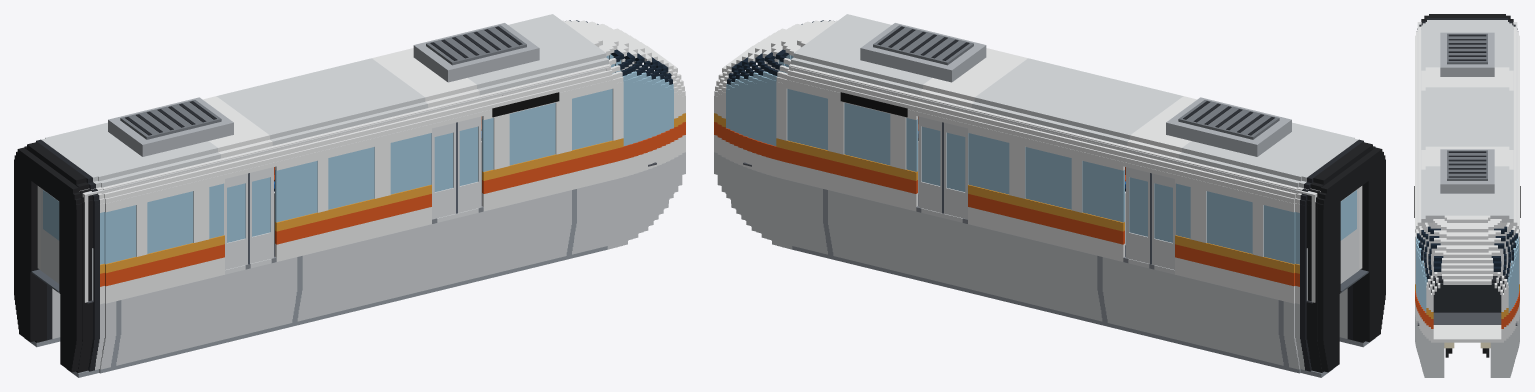
The model's file is yui_rail_front.obj.
3 views of the same model, side by side, from view 1: azimuth 30°, elevation 25°; view 2: azimuth 150°, elevation 25°; view 3: azimuth 270°, elevation 25° (orthographic). The views are drawn at different scales.
Visible parts, largest first — view 1: SHELL, SHELL_roof, SHELL_diaphragm, EXTERNAL_DOOR_9_CG_DR2_TOGGLE_TL_-0.54_X, EXTERNAL_DOOR_3_CG_DR1_TOGGLE_TL_-0.54_X, EXTERNAL_DOOR_4_CG_DR1_TOGGLE_TL_0.54_X, EXTERNAL_DOOR_10_CG_DR2_TOGGLE_TL_0.54_X, SHELL_ceiling, CONNECTING_DOOR_1_CG_CR_TOGGLE_TL_0.98_Z, SHELL_end, SHELL_sign, SHELL_ad; view 2: SHELL, SHELL_roof, SHELL_diaphragm, EXTERNAL_DOOR_12_CG_DL2_TOGGLE_TL_-0.54_X, EXTERNAL_DOOR_6_CG_DL1_TOGGLE_TL_-0.54_X, EXTERNAL_DOOR_7_CG_DL1_TOGGLE_TL_0.54_X, EXTERNAL_DOOR_13_CG_DL2_TOGGLE_TL_0.54_X, SHELL_ceiling, CONNECTING_DOOR_1_CG_CR_TOGGLE_TL_0.98_Z, SHELL_end, SHELL_sign, SHELL_ad; view 3: SHELL, SHELL_roof, SHELL_desk, SHELL_ceiling, SHELL_floor, SHELL_cabwall, HEADLIGHT_1, BOGEY_FRONT.
Part boxes in pixels (left/top/right/bottom): SHELL: left=24, top=14, right=685, bottom=377; SHELL_roof: left=108, top=23, right=539, bottom=156; SHELL_diaphragm: left=14, top=147, right=82, bottom=372; EXTERNAL_DOOR_9_CG_DR2_TOGGLE_TL_-0.54_X: left=431, top=122, right=457, bottom=219; EXTERNAL_DOOR_3_CG_DR1_TOGGLE_TL_-0.54_X: left=224, top=173, right=249, bottom=269; EXTERNAL_DOOR_4_CG_DR1_TOGGLE_TL_0.54_X: left=249, top=167, right=273, bottom=263; EXTERNAL_DOOR_10_CG_DR2_TOGGLE_TL_0.54_X: left=457, top=116, right=481, bottom=212; SHELL_ceiling: left=83, top=65, right=606, bottom=195; CONNECTING_DOOR_1_CG_CR_TOGGLE_TL_0.98_Z: left=40, top=188, right=59, bottom=283; SHELL_end: left=37, top=186, right=88, bottom=302; SHELL_sign: left=492, top=92, right=559, bottom=117; SHELL_ad: left=101, top=73, right=592, bottom=193; SHELL: left=714, top=14, right=1375, bottom=377; SHELL_roof: left=860, top=23, right=1291, bottom=156; SHELL_diaphragm: left=1317, top=147, right=1385, bottom=372; EXTERNAL_DOOR_12_CG_DL2_TOGGLE_TL_-0.54_X: left=942, top=122, right=968, bottom=219; EXTERNAL_DOOR_6_CG_DL1_TOGGLE_TL_-0.54_X: left=1150, top=173, right=1175, bottom=269; EXTERNAL_DOOR_7_CG_DL1_TOGGLE_TL_0.54_X: left=1126, top=167, right=1150, bottom=263; EXTERNAL_DOOR_13_CG_DL2_TOGGLE_TL_0.54_X: left=918, top=116, right=942, bottom=212; SHELL_ceiling: left=793, top=65, right=1316, bottom=195; CONNECTING_DOOR_1_CG_CR_TOGGLE_TL_0.98_Z: left=1340, top=188, right=1359, bottom=283; SHELL_end: left=1311, top=186, right=1362, bottom=302; SHELL_sign: left=840, top=92, right=907, bottom=117; SHELL_ad: left=807, top=73, right=1298, bottom=193; SHELL: left=1415, top=14, right=1519, bottom=377; SHELL_roof: left=1440, top=32, right=1494, bottom=193; SHELL_desk: left=1426, top=276, right=1508, bottom=312; SHELL_ceiling: left=1417, top=23, right=1517, bottom=221; SHELL_floor: left=1417, top=312, right=1517, bottom=325; SHELL_cabwall: left=1417, top=222, right=1517, bottom=275; HEADLIGHT_1: left=1444, top=342, right=1490, bottom=348; BOGEY_FRONT: left=1445, top=348, right=1489, bottom=357.
Size of the model in its own units: 14.86 by 4.85 by 2.82.
Materials: 1 (1 with a texture image).
